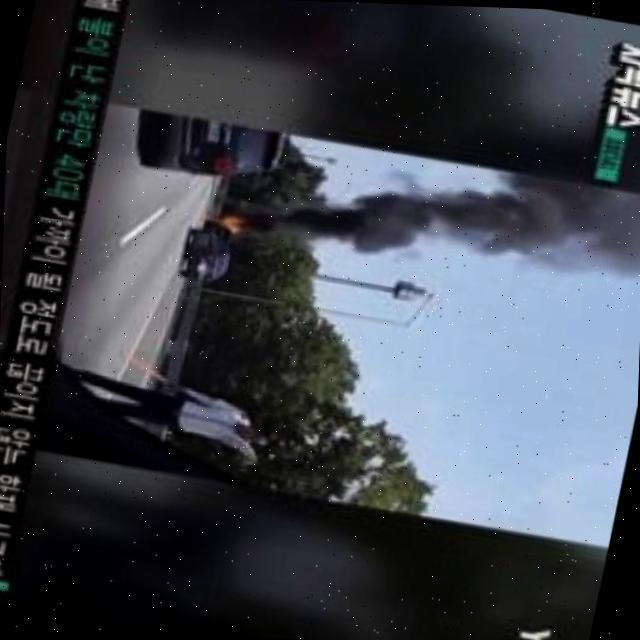fire: (205, 210, 247, 238)
